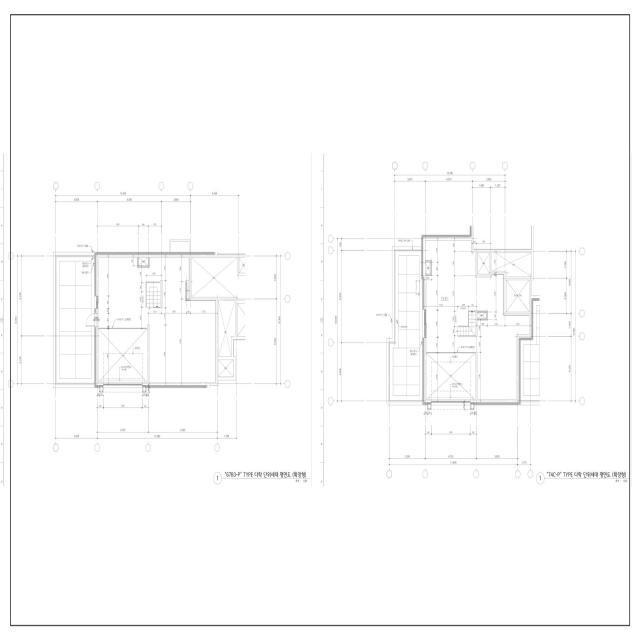space_balconi: (393, 256, 419, 396)
space_other: (98, 258, 216, 382), (477, 275, 529, 400), (425, 240, 478, 352), (56, 257, 95, 383), (426, 353, 475, 400), (492, 253, 532, 277), (506, 280, 529, 312), (478, 253, 490, 274), (138, 258, 148, 266), (425, 262, 431, 274), (477, 313, 486, 319), (187, 283, 189, 299)
space_staircase: (458, 311, 475, 336), (146, 282, 160, 307)
